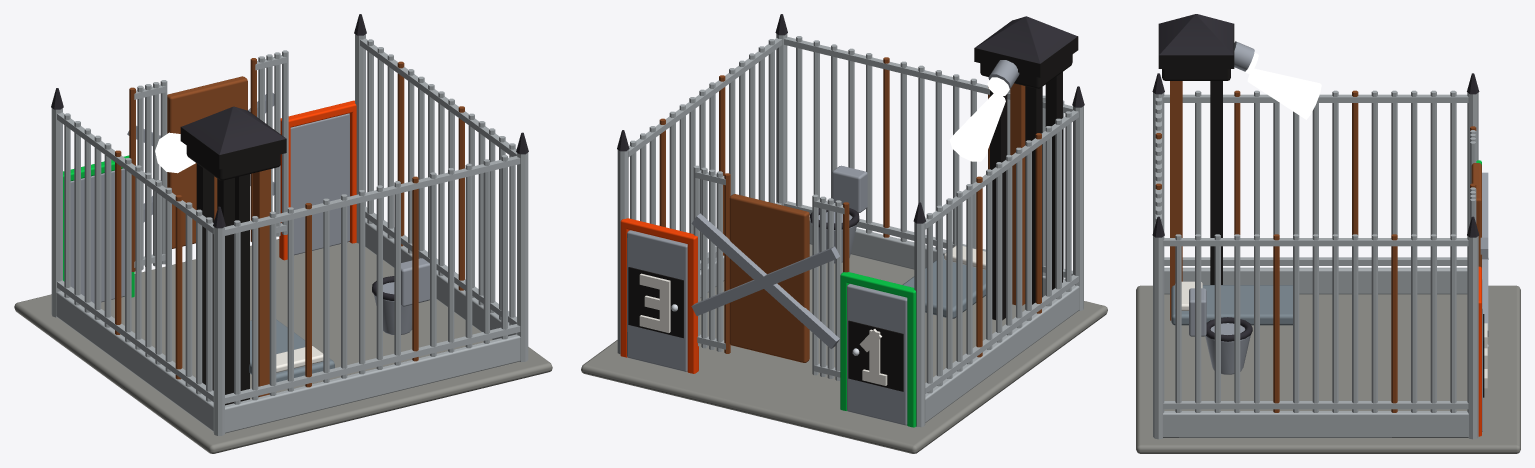
File: building_living_quarters_t1.glb
3 views of the same model, side by side, from view 1: azimuth 30°, elevation 25°; view 2: azimuth 150°, elevation 25°; view 3: azimuth 270°, elevation 25° (orthographic). The views are drawn at different scales.
Visible parts, largest first — view 1: Lot, KickB, Exit.Leaf, KickL, Cell2.Plate, Entry.Leaf, Tower.Cap, Tower.Leg1, B.RailHi, B.RailLo, PostBL, PostBR (+75 smaller); view 2: Lot, Cell2.Plate, Entry.Leaf, Exit.Leaf, KickL, Tower.Cap, Num1.Plaque, Cell2.Strap.001, Tower.Leg1, PostFL, Num3.Plaque, Tower.Beam (+74 smaller); view 3: Lot, KickR, KickL, Tower.Cap, Mattress, R.RailLo, R.RailHi, Tower.Leg1, PostFR, PostBR, Tower.Leg3, Tower.Beam (+41 smaller).
Part boxes in pixels (x1=…): Lot: x1=14, y1=239, x2=552, y2=453; KickB: x1=225, y1=334, x2=520, y2=433; Exit.Leaf: x1=290, y1=113, x2=349, y2=255; KickL: x1=56, y1=291, x2=213, y2=431; Cell2.Plate: x1=167, y1=76, x2=247, y2=248; Entry.Leaf: x1=70, y1=168, x2=124, y2=303; Tower.Cap: x1=181, y1=106, x2=285, y2=154; Tower.Leg1: x1=253, y1=169, x2=270, y2=397; B.RailHi: x1=225, y1=156, x2=520, y2=235; B.RailLo: x1=225, y1=324, x2=520, y2=403; PostBL: x1=213, y1=226, x2=224, y2=435; PostBR: x1=517, y1=153, x2=528, y2=361; Lot: x1=581, y1=244, x2=1107, y2=453; Cell2.Plate: x1=729, y1=194, x2=809, y2=362; Entry.Leaf: x1=847, y1=284, x2=907, y2=425; Exit.Leaf: x1=627, y1=230, x2=687, y2=371; KickL: x1=925, y1=285, x2=1079, y2=422; Tower.Cap: x1=975, y1=16, x2=1077, y2=63; Num1.Plaque: x1=848, y1=320, x2=903, y2=391; Cell2.Strap.001: x1=691, y1=213, x2=839, y2=348; Tower.Leg1: x1=1010, y1=83, x2=1025, y2=305; PostFL: x1=914, y1=222, x2=925, y2=427; Num3.Plaque: x1=628, y1=267, x2=683, y2=338; Tower.Beam: x1=949, y1=93, x2=1005, y2=161; Lot: x1=1136, y1=285, x2=1520, y2=453; KickR: x1=1163, y1=411, x2=1468, y2=437; KickL: x1=1164, y1=267, x2=1467, y2=294; Tower.Cap: x1=1159, y1=14, x2=1233, y2=55; Mattress: x1=1171, y1=285, x2=1292, y2=325; R.RailLo: x1=1163, y1=401, x2=1468, y2=409; R.RailHi: x1=1163, y1=238, x2=1468, y2=246; Tower.Leg1: x1=1170, y1=81, x2=1182, y2=320; PostFR: x1=1467, y1=236, x2=1478, y2=439; PostBR: x1=1153, y1=236, x2=1164, y2=439; Tower.Leg3: x1=1210, y1=81, x2=1222, y2=284; Tower.Beam: x1=1247, y1=68, x2=1321, y2=119.
Size of the model in its own units: 3.06 by 2.67 by 3.06.
